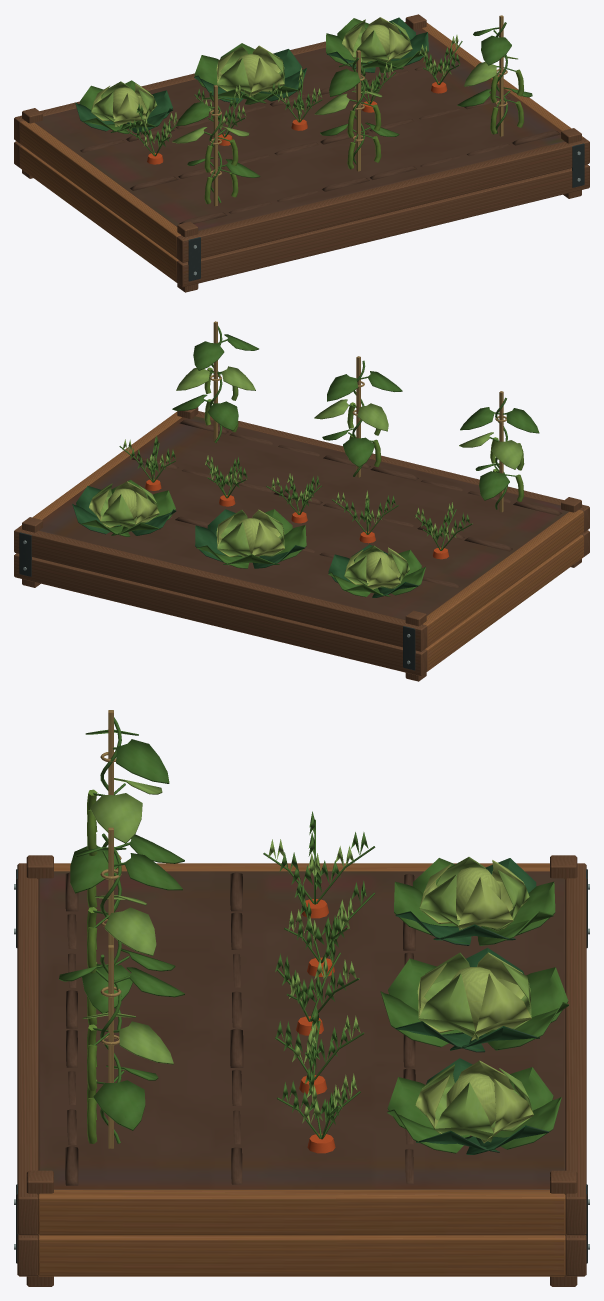
File: gardenbed.glb
The picture shows the model from 3 angles, top to bottom: view 1: azimuth 30°, elevation 25°; view 2: azimuth 150°, elevation 25°; view 3: azimuth 270°, elevation 25°; orthographic projection. The views are drawn at different scales.
Parts seen in each view (by area): view 1: GardenbedBody; view 2: GardenbedBody; view 3: GardenbedBody.
Boxes of the visible parts, x1,y1,x2,y2 form: GardenbedBody: [14, 14, 589, 292]; GardenbedBody: [14, 321, 589, 681]; GardenbedBody: [14, 710, 589, 1286].
Size of the model in its own units: 3 by 1.23 by 2.18.
1 material, 1 textured.
